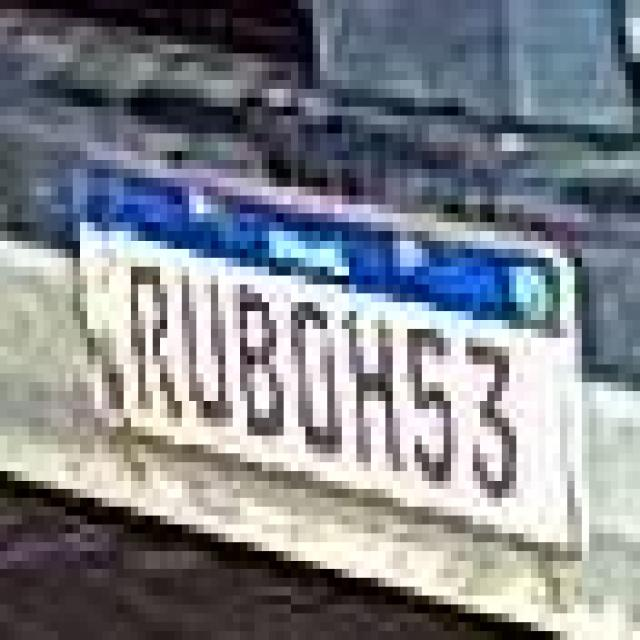0: (285, 296, 344, 462)
3: (460, 331, 524, 500)
5: (405, 322, 458, 497)
B: (228, 280, 288, 444)
H: (341, 303, 404, 476)
R: (117, 256, 180, 427)
U: (180, 268, 232, 432)
